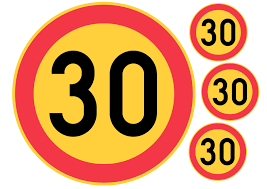Speed_limit_30km: (12, 3, 195, 185), (189, 3, 248, 61), (200, 63, 260, 119), (190, 125, 248, 179)
